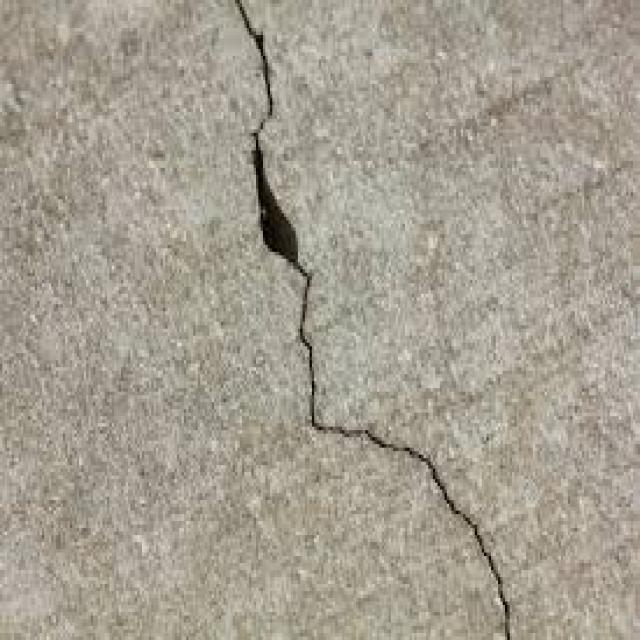Crack: (228, 0, 510, 637)
